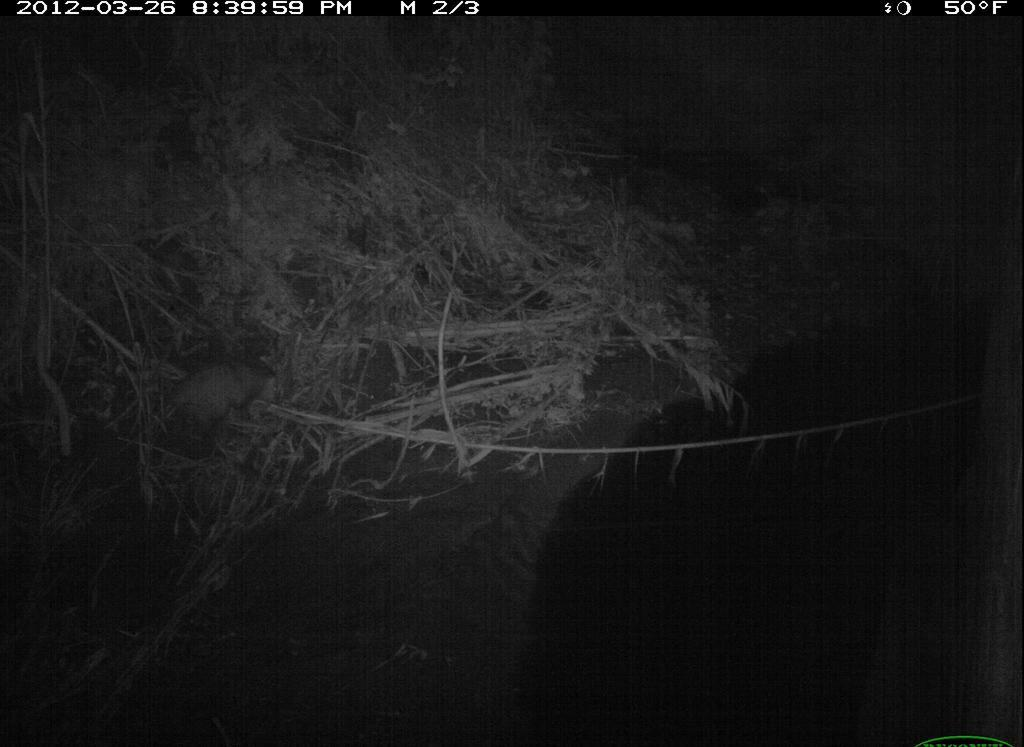opossum: (152, 340, 289, 455)
